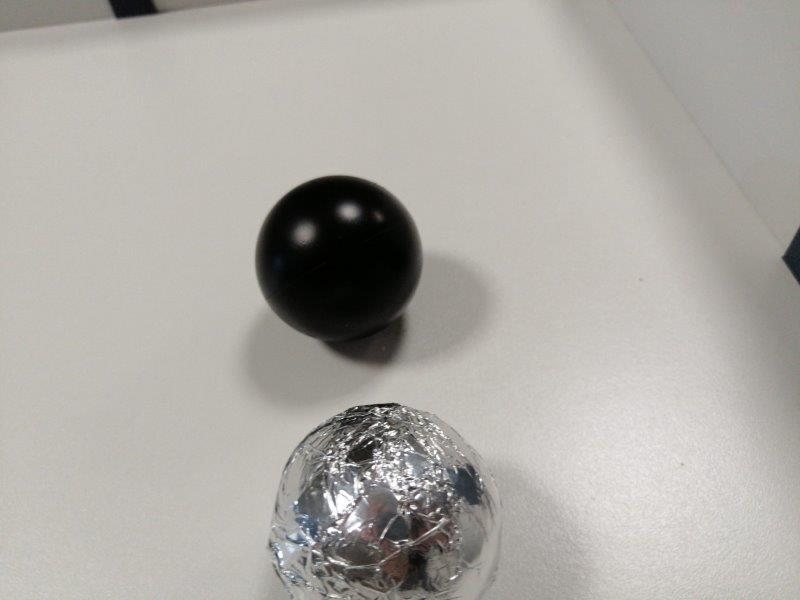bianca: (269, 400, 503, 599)
nera: (253, 174, 422, 340)
